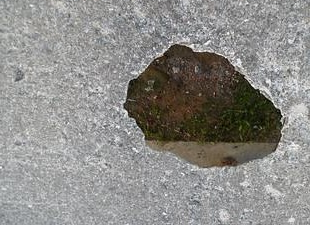Spalling: (122, 43, 284, 169)
